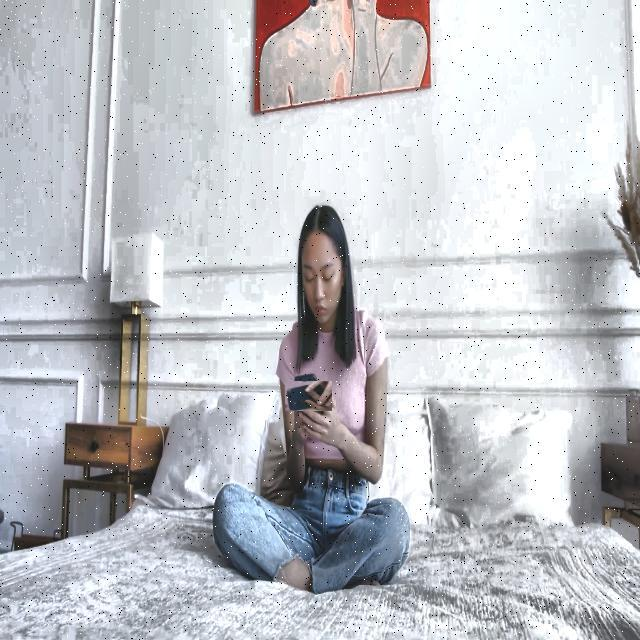Phone: (289, 376, 328, 415)
